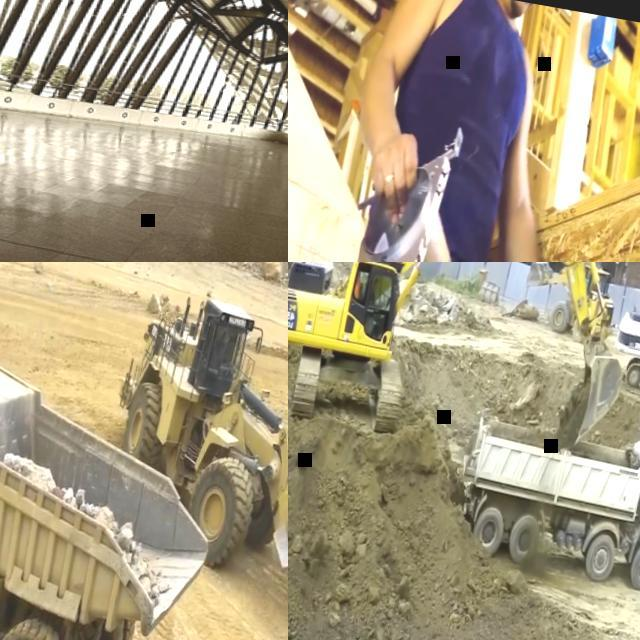machinery: (288, 262, 640, 475), (0, 334, 237, 640), (88, 281, 288, 600), (445, 391, 640, 596), (517, 262, 621, 341)
no_mask: (503, 0, 534, 21), (374, 286, 378, 292)
no_vest: (365, 0, 541, 262), (368, 290, 377, 306), (372, 278, 380, 286)
person: (288, 0, 631, 262), (362, 278, 392, 338)
